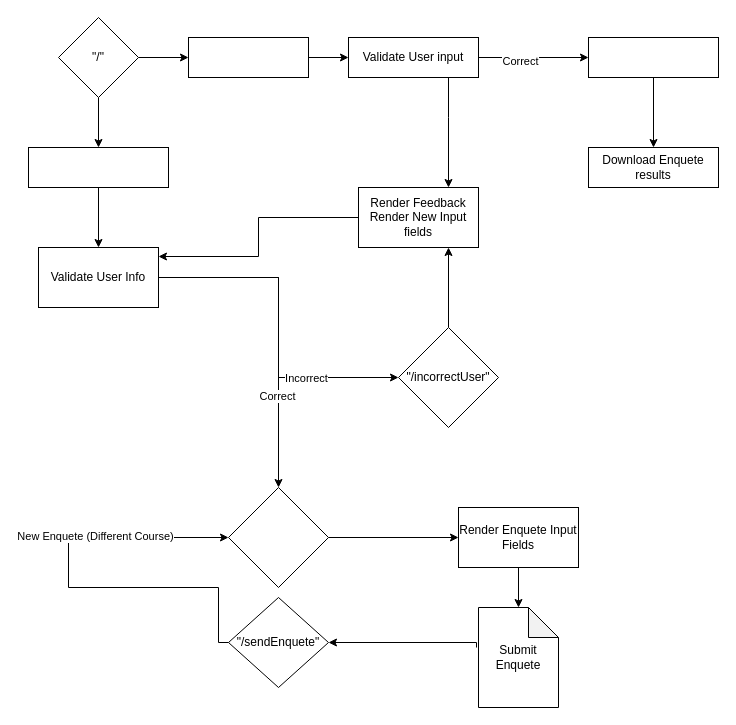
Image size: 736x725. Some labels were removed from this diagram. The shapes that lost their labels are listed below. From the top down, each one's centre as x and y in pixels, then its label:
the point at 248,57: loginAdmin
the point at 653,57: Render Admin
the point at 98,167: Wait for User Input
the point at 278,537: "/startEnquete"
